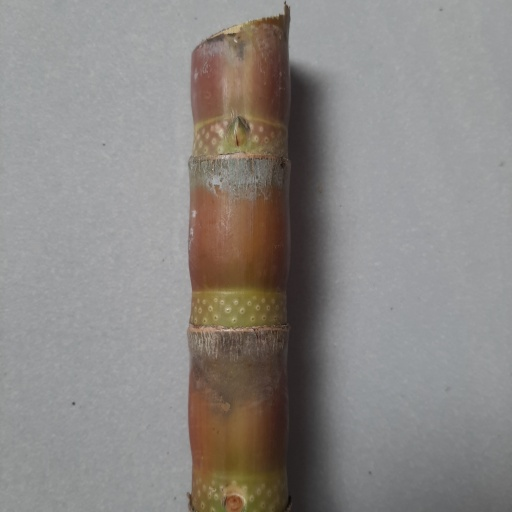Bud: (225, 115, 253, 149)
